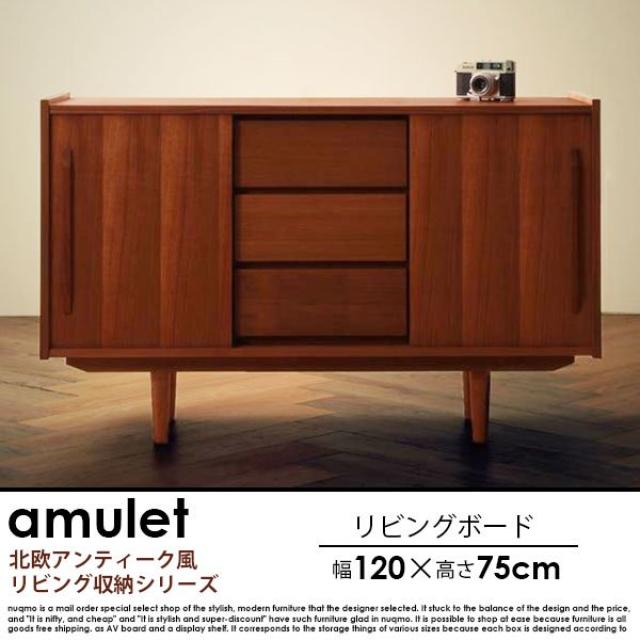vintage shelf: (32, 88, 602, 450)
